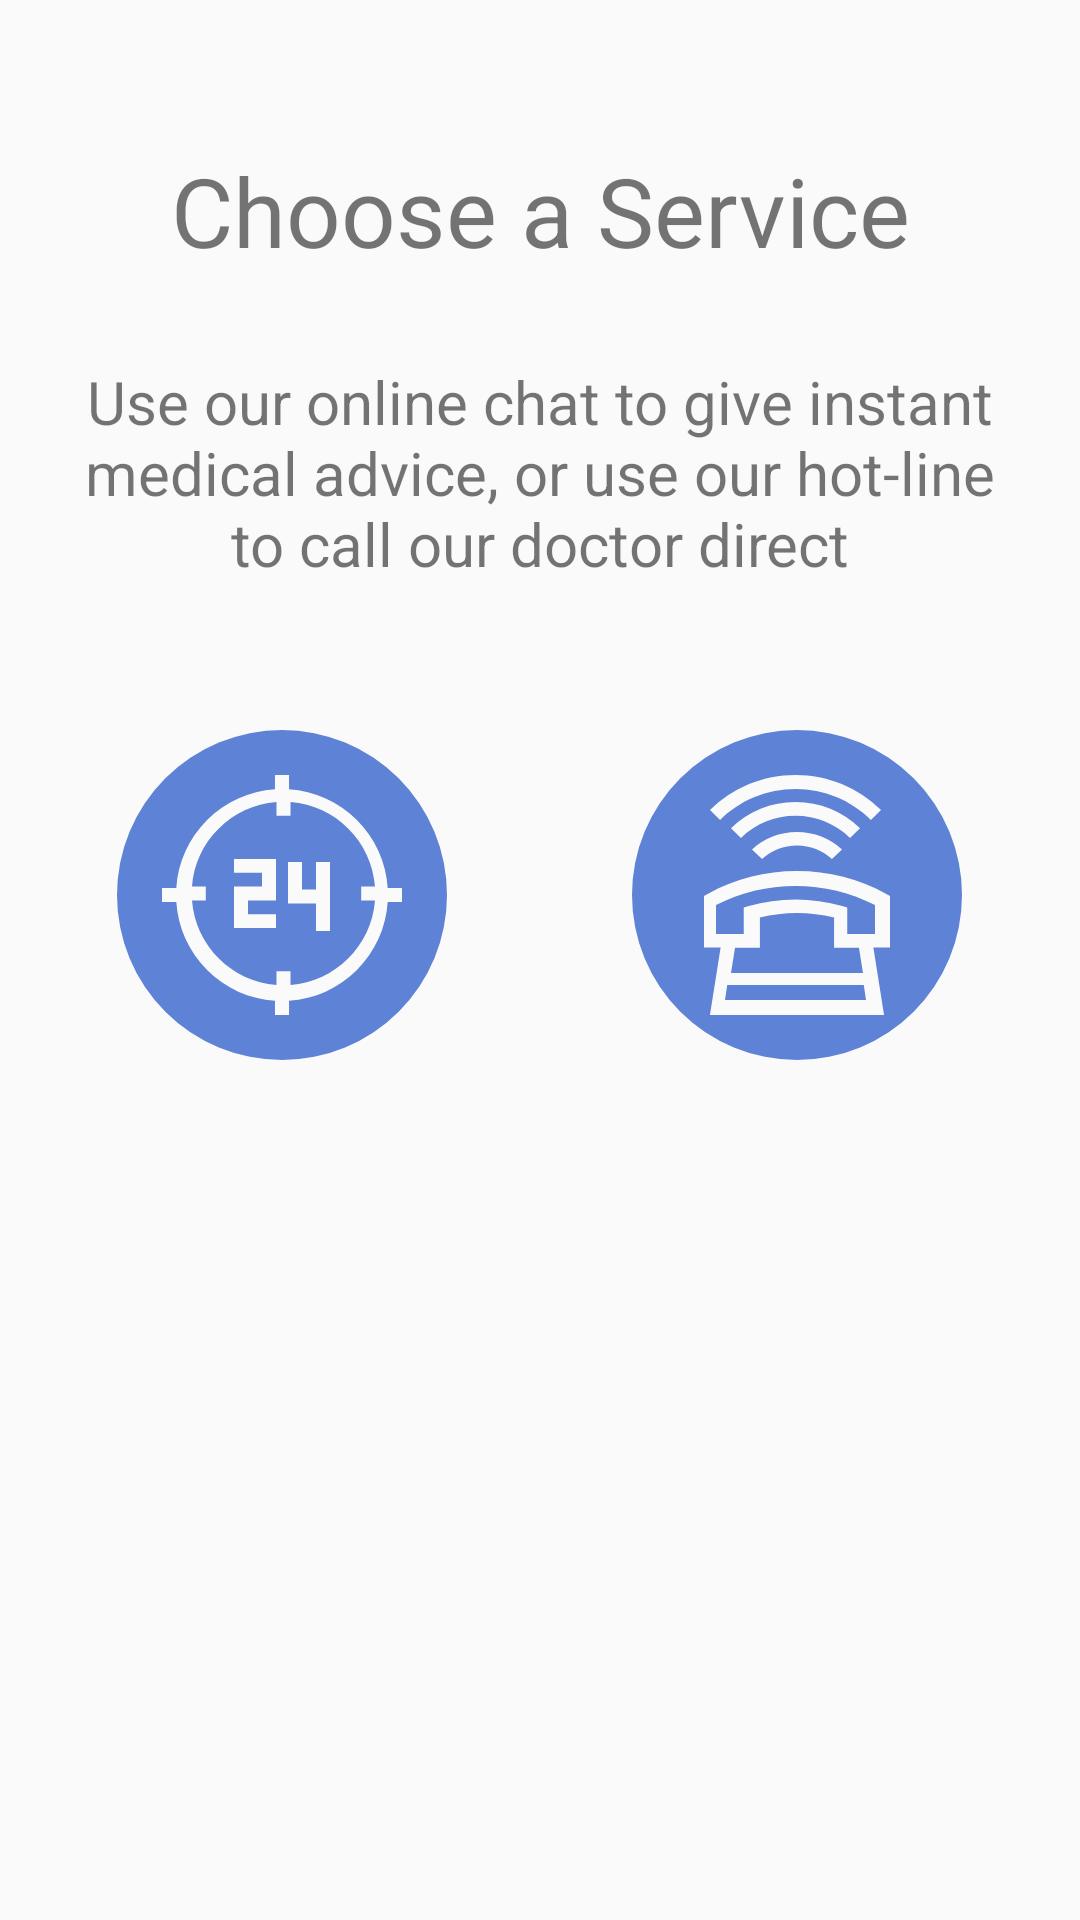

Locate icon controls on the screen. Image size 1080x1920, boxes as rect(x1, y1, x2, y2).
Online Service: rect(117, 730, 447, 1060)
